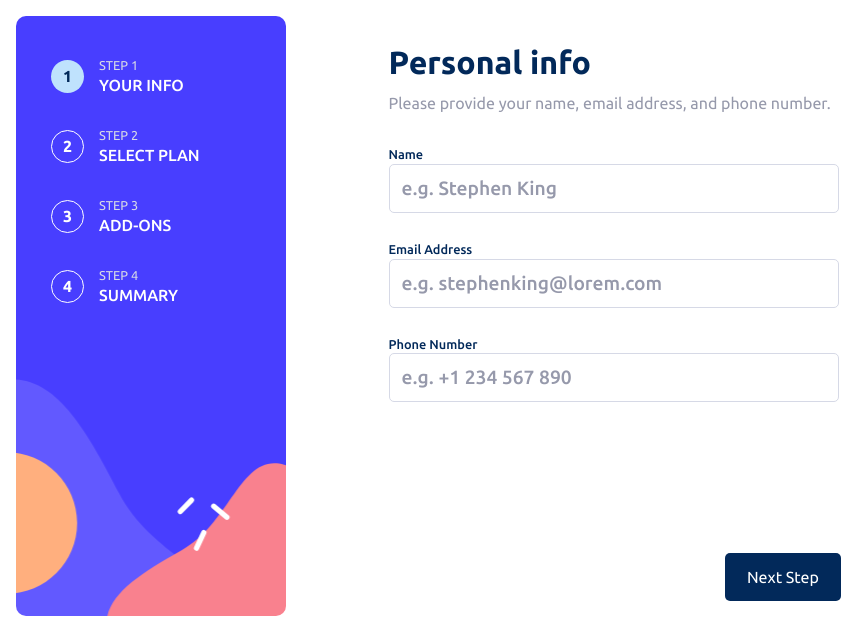
it: Integration between the main component and the forms it loads › Should hide the actual form and render the previous
Click the button "Next Step": coordinates (783, 577) [725,553,841,601]
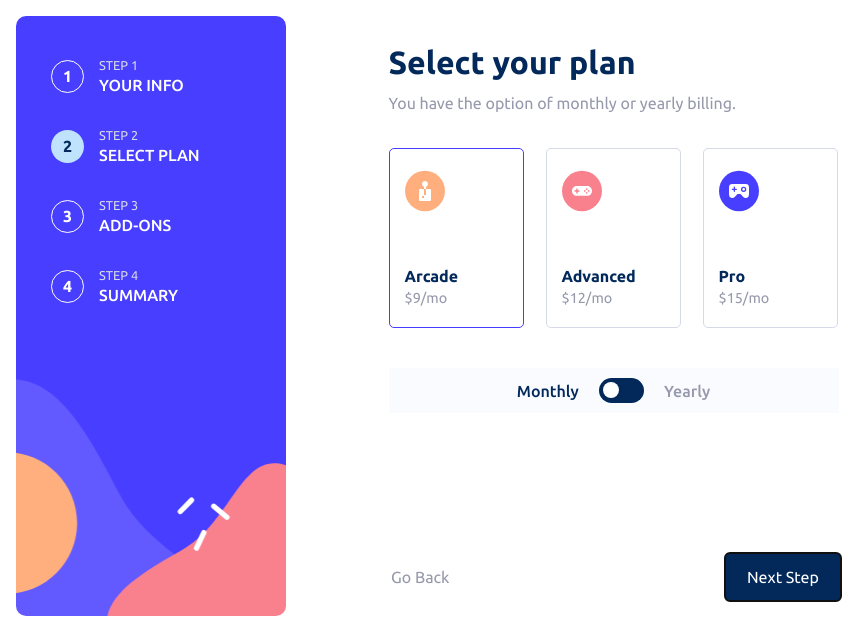
Result: the heading "Select your plan" is shown at [388,44,636,80]
Click the button "Go Back": coordinates (418, 577) [386,553,449,601]
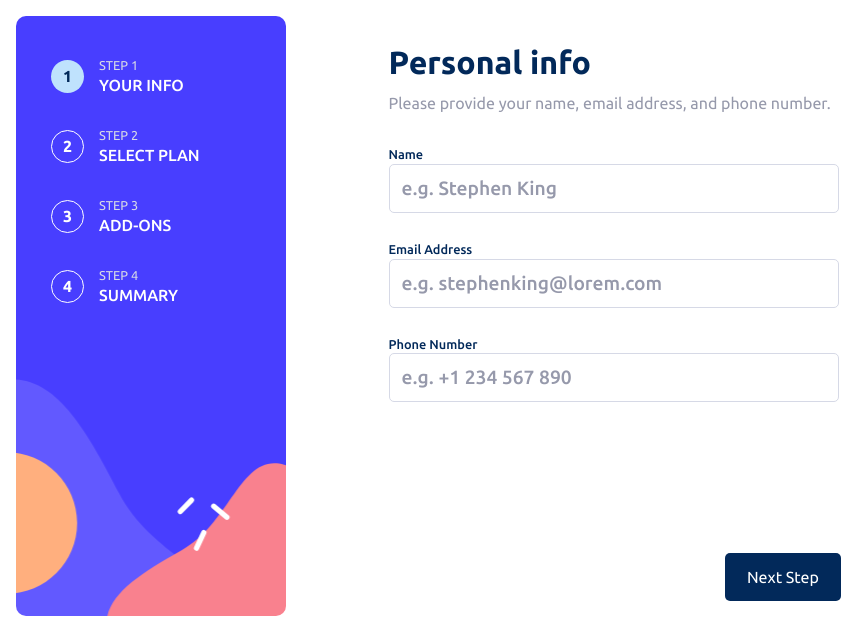
Result: the heading "Personal info" is shown at [388,44,591,80]
